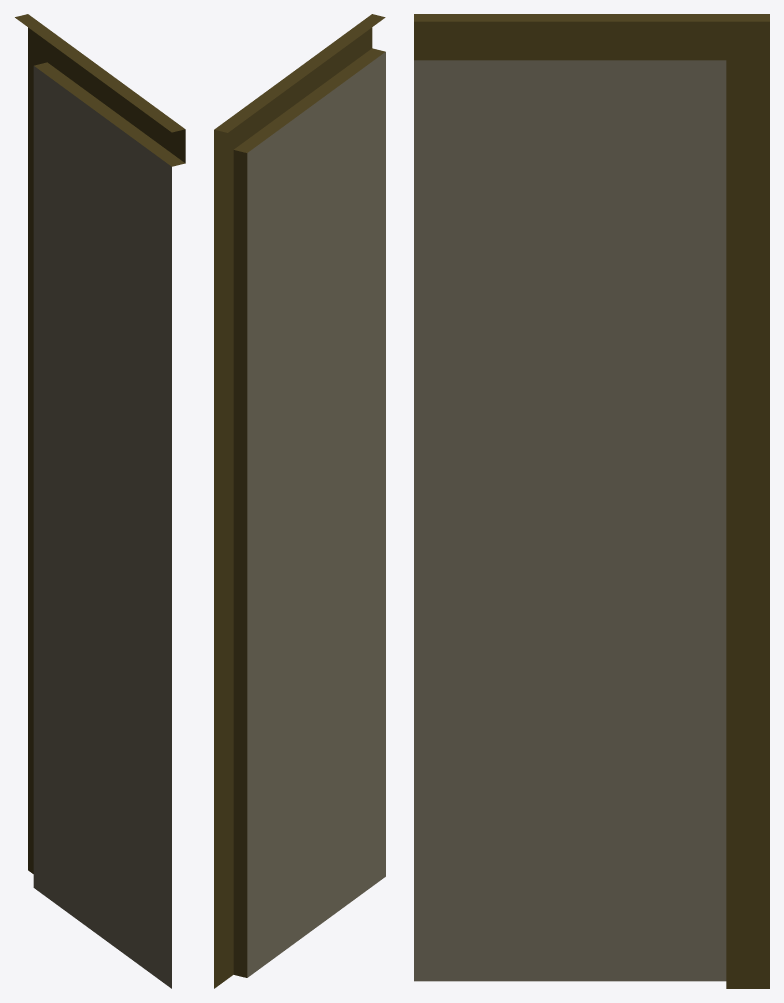
Rendered from GB_Floor1_SideWall.fbx.
3 renders of one model, left to right at view 1: azimuth 30°, elevation 25°; view 2: azimuth 150°, elevation 25°; view 3: azimuth 270°, elevation 25°, orthographic. The views are drawn at different scales.
Parts seen in each view (by area): view 1: R_BottomWall1; view 2: R_BottomWall1; view 3: R_BottomWall1.
Part boxes in pixels (<box>): R_BottomWall1: <box>15,14,185,988</box>; R_BottomWall1: <box>214,14,385,988</box>; R_BottomWall1: <box>414,14,769,988</box>.
Bounding box in the file's own units: 0.05 × 3 × 1.
